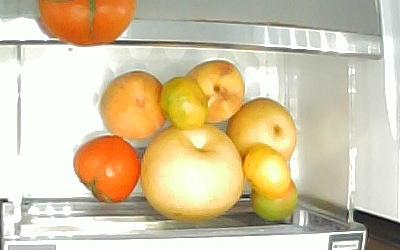peach: (99, 69, 169, 139), (183, 58, 245, 123)
pear: (139, 120, 245, 221), (225, 96, 297, 163)
tangerine: (241, 142, 291, 199), (158, 75, 207, 129)
tomato: (71, 133, 139, 203), (249, 175, 298, 220)
